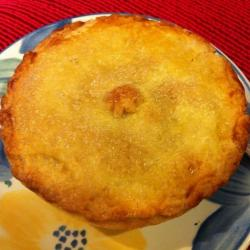apple_pie: (1, 13, 250, 227)
